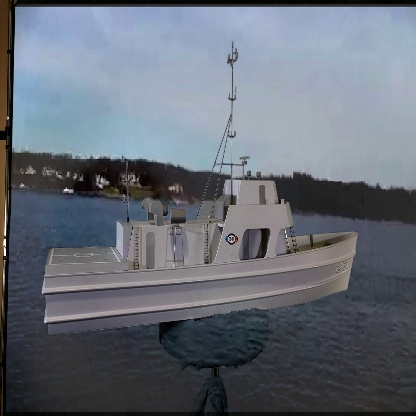YP689: (41, 39, 358, 338)
